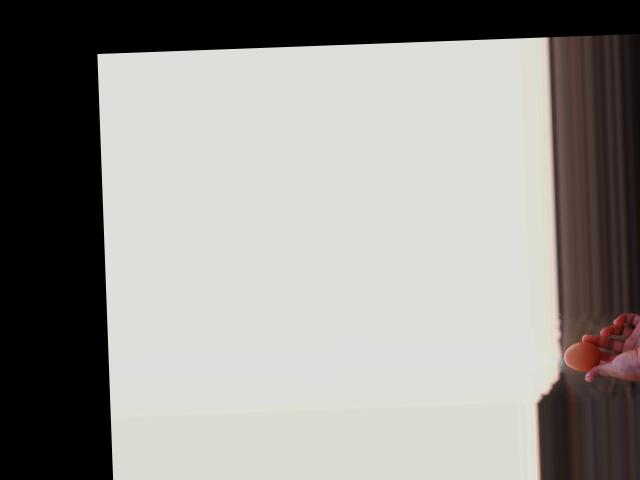egg: (563, 341, 600, 371)
